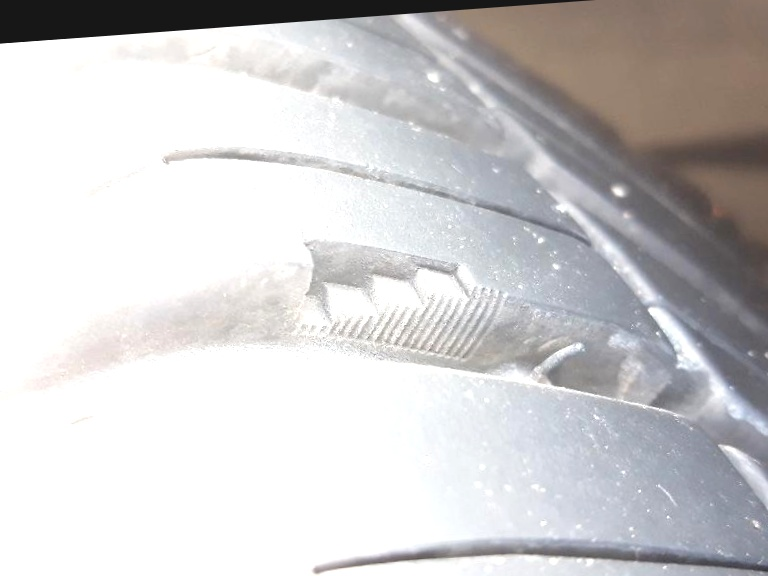temoin:90: (256, 213, 525, 385)
